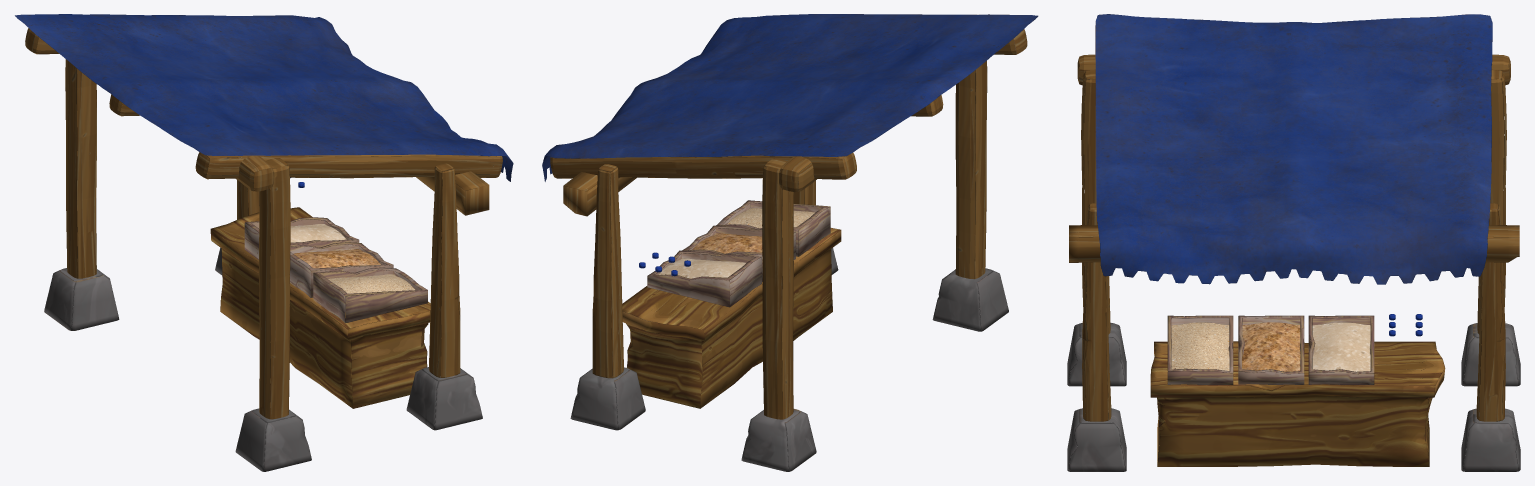
The model's file is MARKET.fbx.
3 renders of one model, left to right at view 1: azimuth 30°, elevation 25°; view 2: azimuth 150°, elevation 25°; view 3: azimuth 270°, elevation 25°, orthographic. The views are drawn at different scales.
Parts seen in each view (by area): view 1: Plane, Cube.002, Cube.005, Cube.009, Cube, Cube.006, Plane.004, Cube.008, Plane.005, Plane.006, Cube.003, Cube.004; view 2: Plane, Cube.002, Cube.005, Cube.009, Cube, Cube.006, Plane.006, Cube.008, Plane.004, Plane.005, Cube.003, Cube.004; view 3: Plane, Cube.002, Cube, Cube.008, Cube.005, Plane.005, Plane.006, Plane.004, Cube.009, Cube.003, Cube.004.
Boxes of the visible parts, x1=… form: Plane: x1=15, y1=14, x2=513, y2=181; Cube.002: x1=210, y1=207, x2=430, y2=408; Cube.005: x1=65, y1=59, x2=290, y2=419; Cube.009: x1=44, y1=268, x2=311, y2=471; Cube: x1=237, y1=163, x2=460, y2=377; Cube.006: x1=25, y1=28, x2=502, y2=179; Plane.004: x1=313, y1=267, x2=427, y2=322; Cube.008: x1=215, y1=248, x2=482, y2=430; Plane.005: x1=290, y1=242, x2=393, y2=297; Plane.006: x1=244, y1=217, x2=359, y2=259; Cube.003: x1=416, y1=171, x2=489, y2=215; Cube.004: x1=227, y1=155, x2=273, y2=191; Plane: x1=542, y1=14, x2=1038, y2=181; Cube.002: x1=622, y1=228, x2=841, y2=408; Cube.005: x1=762, y1=61, x2=987, y2=419; Cube.009: x1=741, y1=268, x2=1008, y2=471; Cube: x1=592, y1=164, x2=815, y2=378; Cube.006: x1=550, y1=29, x2=1027, y2=179; Plane.006: x1=647, y1=250, x2=761, y2=307; Cube.008: x1=570, y1=248, x2=838, y2=430; Plane.004: x1=716, y1=200, x2=830, y2=256; Plane.005: x1=682, y1=225, x2=795, y2=281; Cube.003: x1=563, y1=172, x2=636, y2=216; Cube.004: x1=779, y1=156, x2=816, y2=192; Plane: x1=1095, y1=14, x2=1492, y2=284; Cube.002: x1=1150, y1=341, x2=1445, y2=466; Cube: x1=1082, y1=203, x2=1505, y2=421; Cube.008: x1=1067, y1=408, x2=1520, y2=471; Cube.005: x1=1081, y1=70, x2=1506, y2=334; Plane.005: x1=1238, y1=315, x2=1304, y2=384; Plane.006: x1=1308, y1=315, x2=1374, y2=384; Plane.004: x1=1167, y1=315, x2=1233, y2=384; Cube.009: x1=1067, y1=322, x2=1520, y2=386; Cube.003: x1=1069, y1=225, x2=1519, y2=262; Cube.004: x1=1077, y1=54, x2=1510, y2=85.
Bounding box in the file's own units: 220 × 213 × 268.
1 material, 1 textured.
